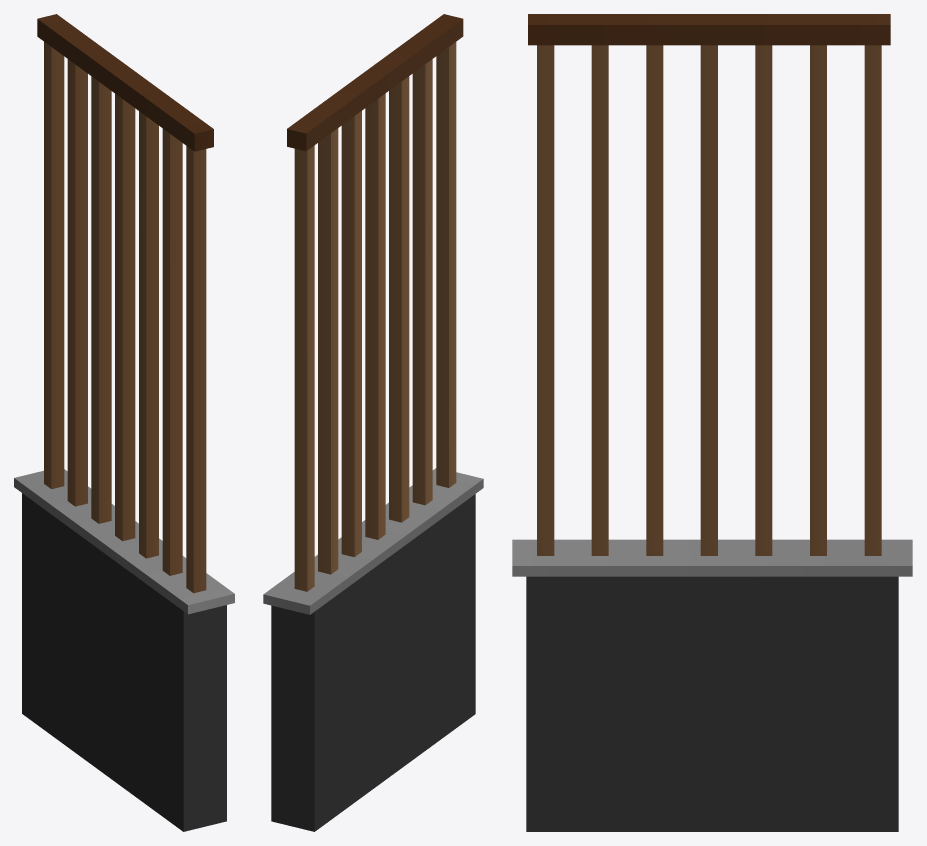
The model's file is B01_Paravent_2.fbx.
3 renders of one model, left to right at view 1: azimuth 30°, elevation 25°; view 2: azimuth 150°, elevation 25°; view 3: azimuth 270°, elevation 25°, orthographic. The views are drawn at different scales.
Parts seen in each view (by area): view 1: B01_Paravent_2; view 2: B01_Paravent_2; view 3: B01_Paravent_2.
Boxes of the visible parts, x1=… form: B01_Paravent_2: x1=14, y1=14, x2=234, y2=831; B01_Paravent_2: x1=263, y1=14, x2=483, y2=831; B01_Paravent_2: x1=512, y1=14, x2=912, y2=831.
Bounding box in the file's own units: 21.51 × 305 × 138.
